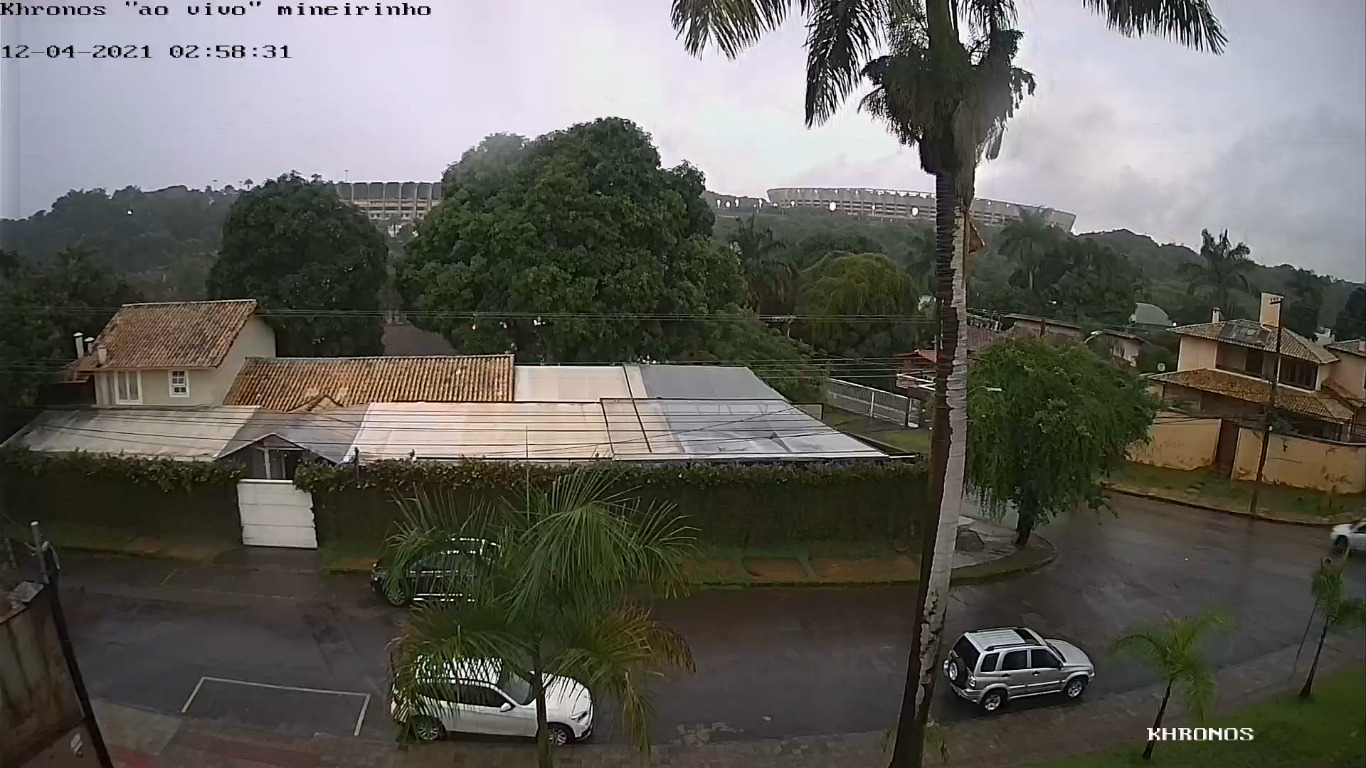car: (387, 649, 597, 749), (941, 626, 1095, 711)
